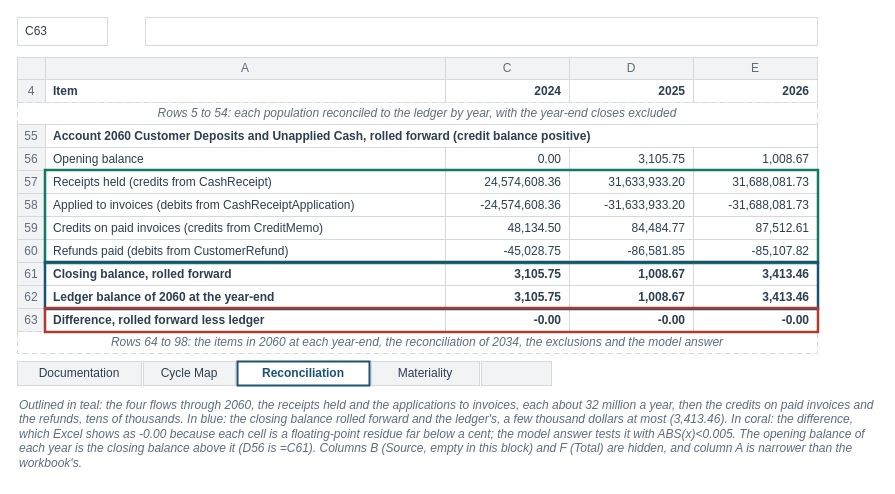
Image size: 895x494. Some labels were removed from this diagram. The shapes that lost their labels are listed below. From the top down, each one's box as (x1, y1, x2, y2) in pixels, then its label:
(110, 16, 142, 46): fx
(144, 16, 818, 46): =C61-C62
(480, 360, 552, 386): Risks
